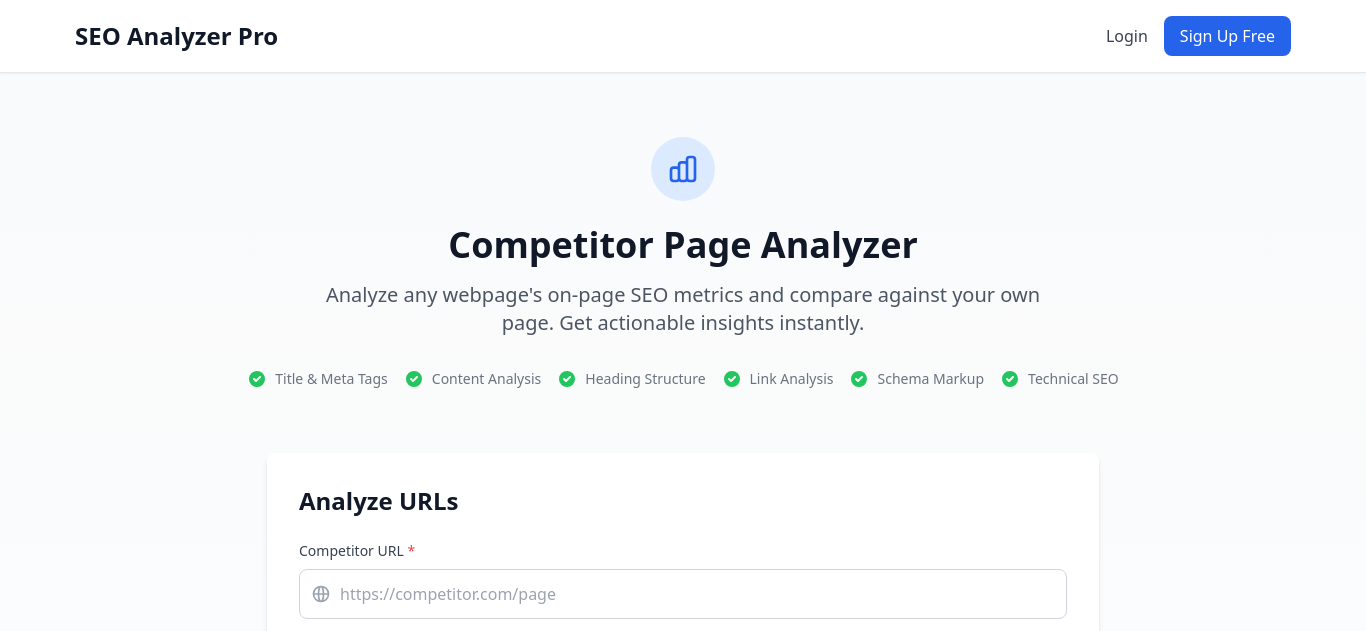
Scenario: CompetitorAnalyzerPage › Form Submission - Error Handling › should handle network errors gracefully
Type "https://example.com" into the field labelled "Competitor URL *" at point(683, 594), box [299, 569, 1067, 619]
(page scrolled)
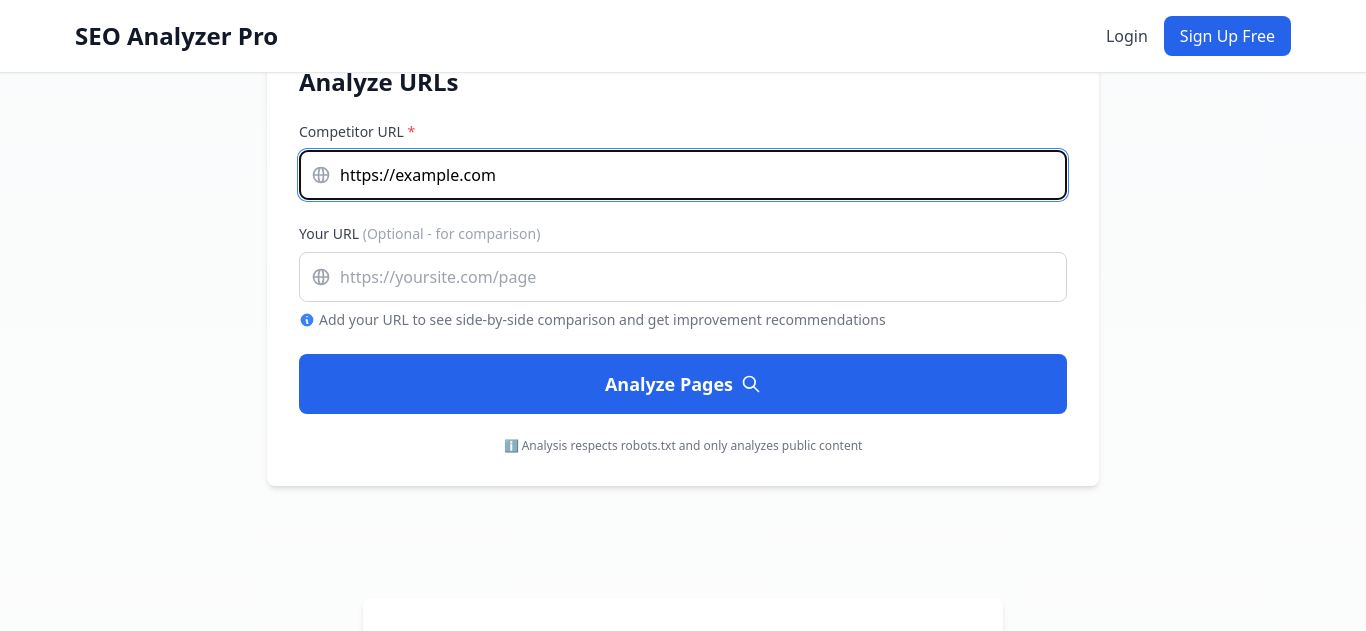
Click the button "Analyze Pages" at point(683, 384), box [299, 354, 1067, 414]
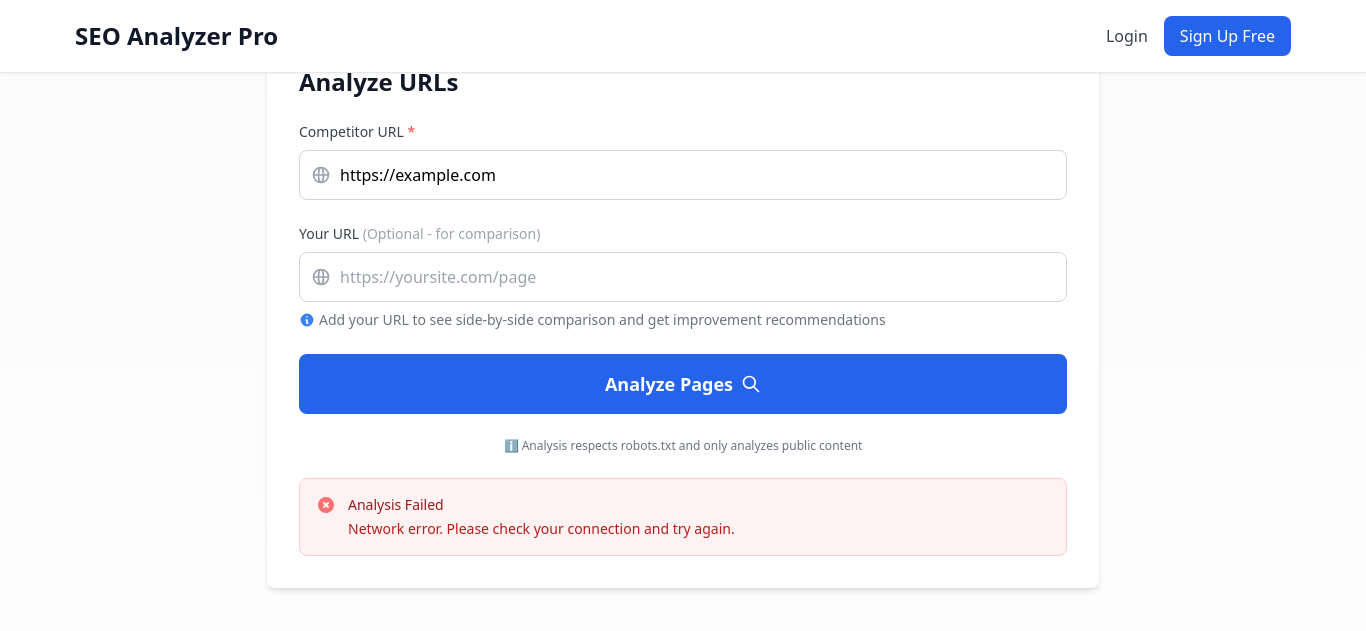
Check: the text "Network error. Please check your connection and try again." is shown, box [348, 519, 735, 539]
